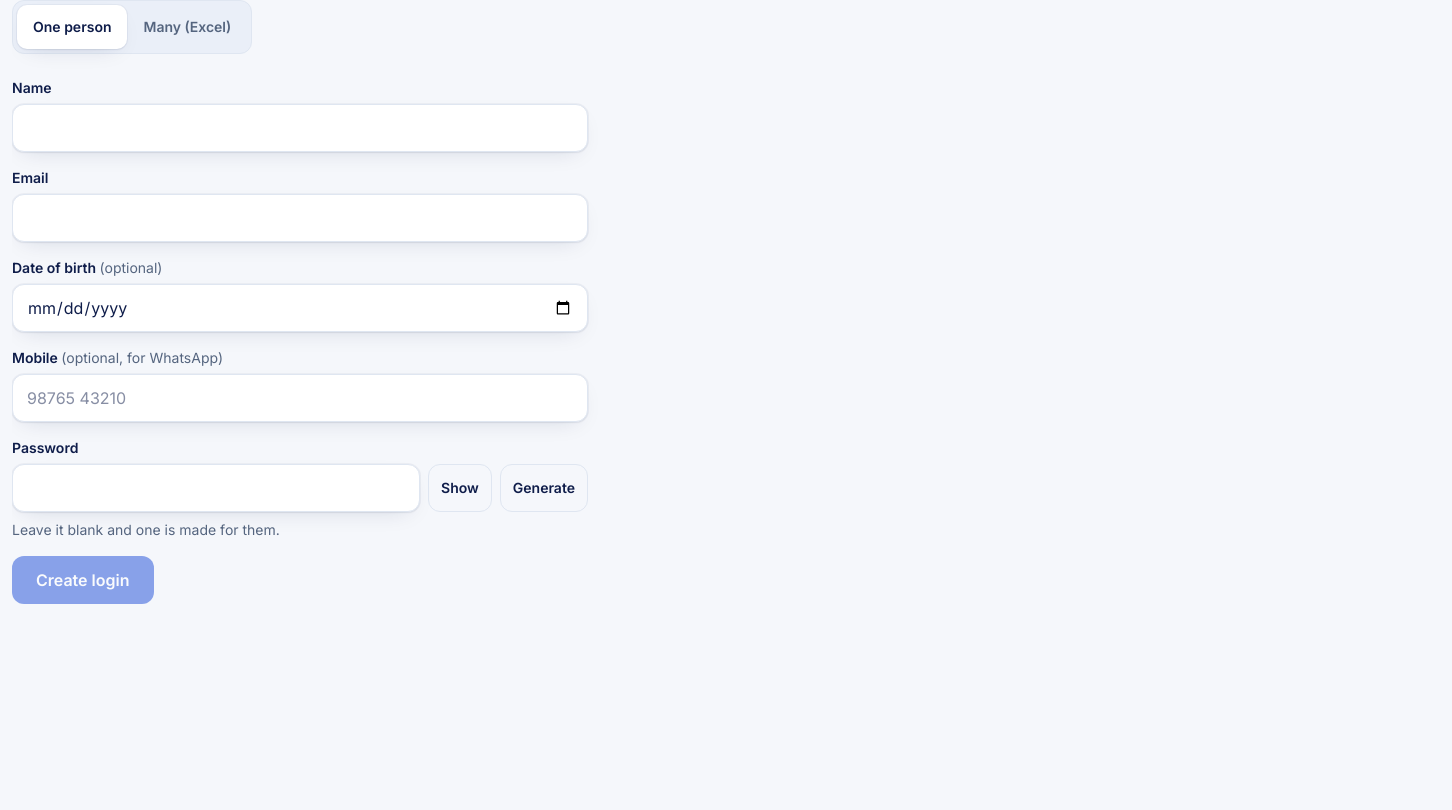
it: AddPeopleForm — one person › announces a refusal from the server
Type "Arjun Mehta" into the field labelled "Name". click: point(300, 128)
box: [12,104,588,152]
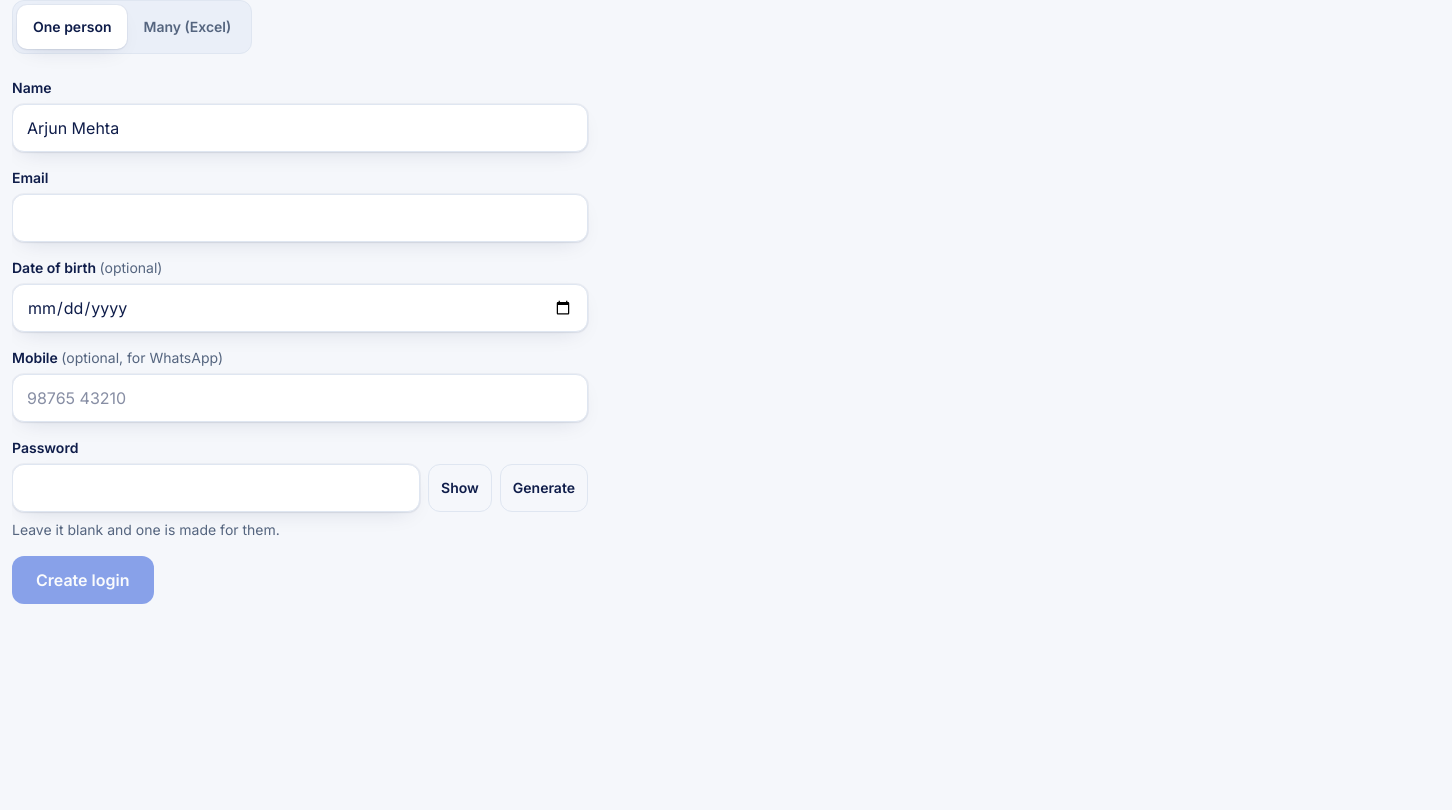
Type "arjun@example.com" into the field labelled "Email". click: point(300, 218)
box: [12,194,588,242]
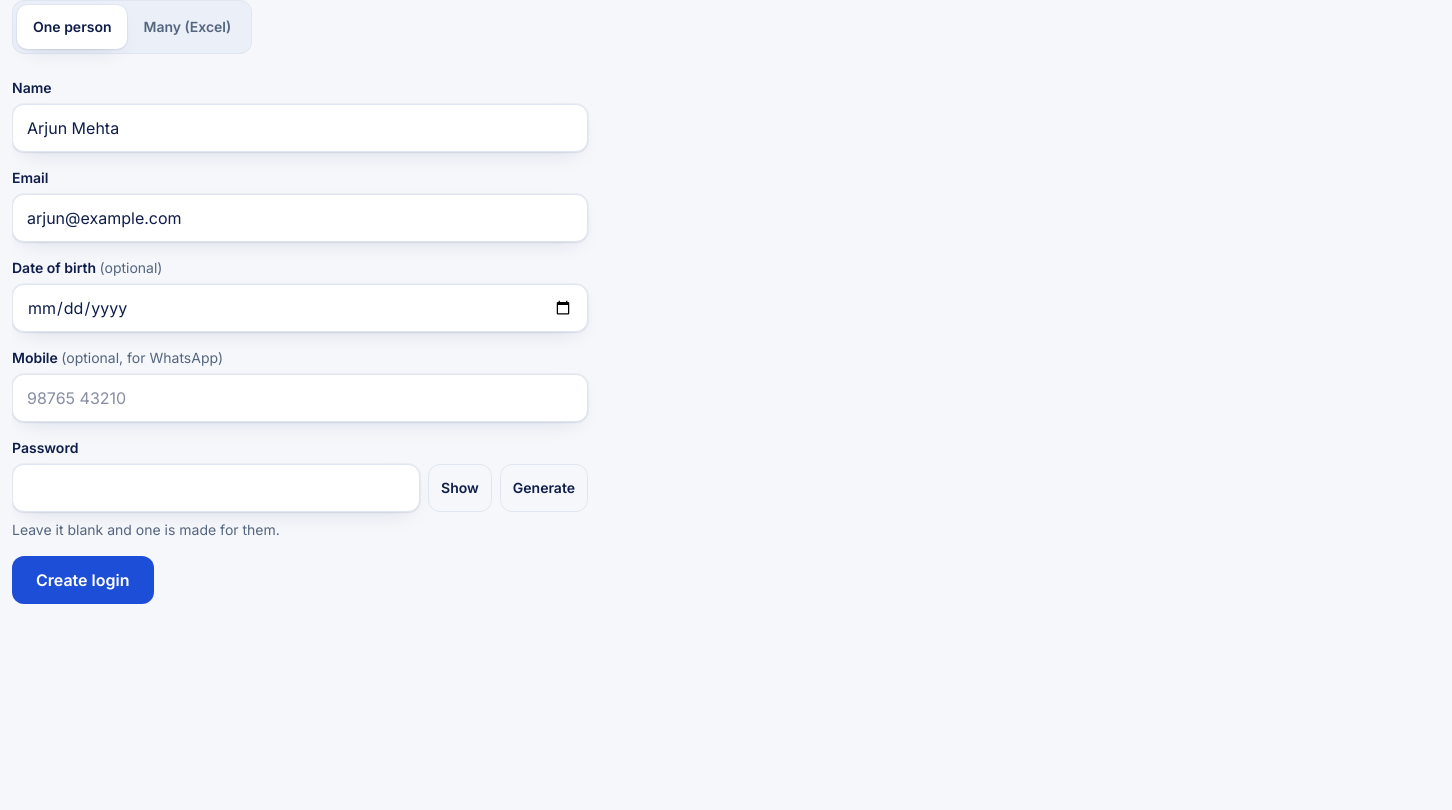
Type "2005-01-15" into the date field labelled "Date of birth (optional)". click: point(300, 308)
box: [12,284,588,332]
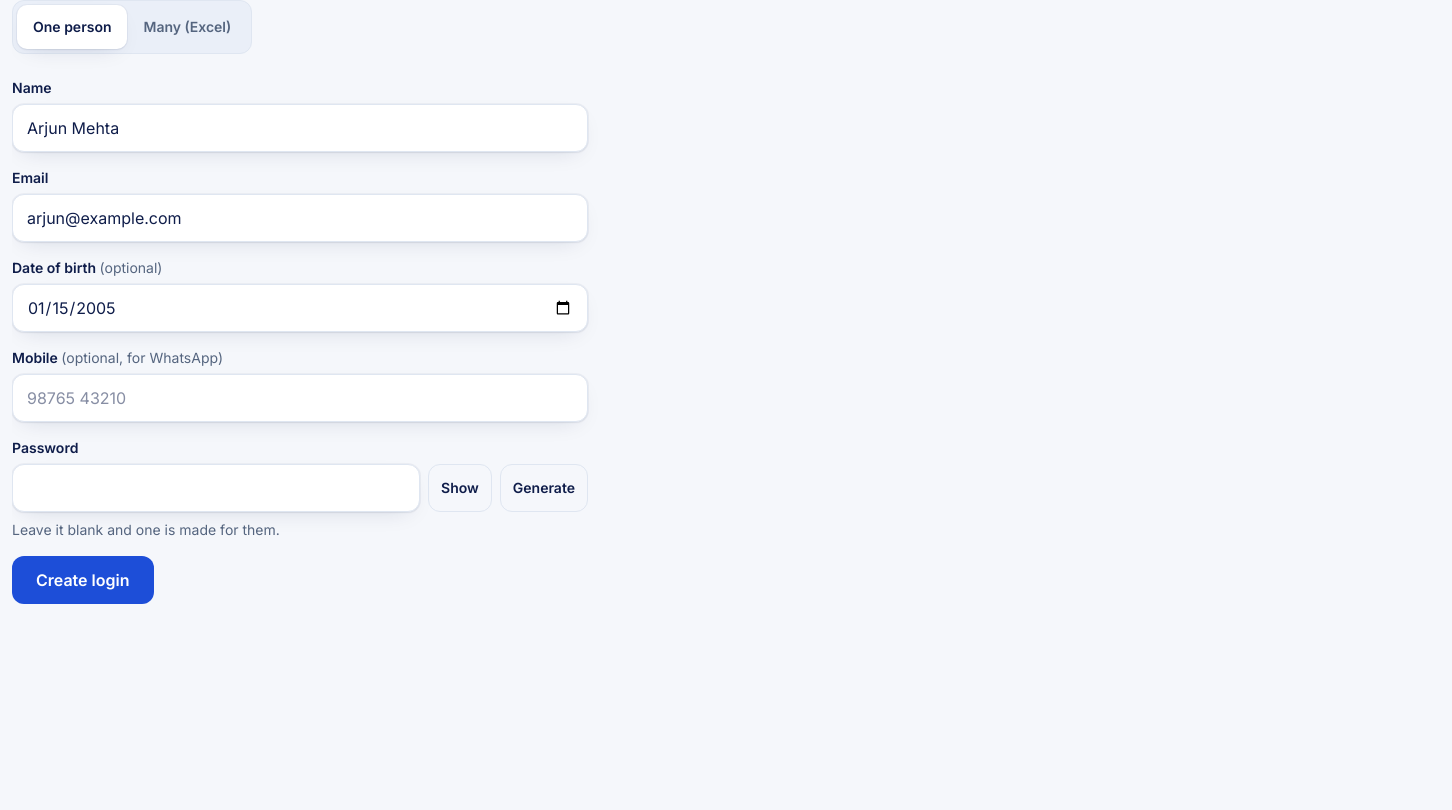
Click the button "Create login". click: point(83, 580)
box: [12,556,154,604]
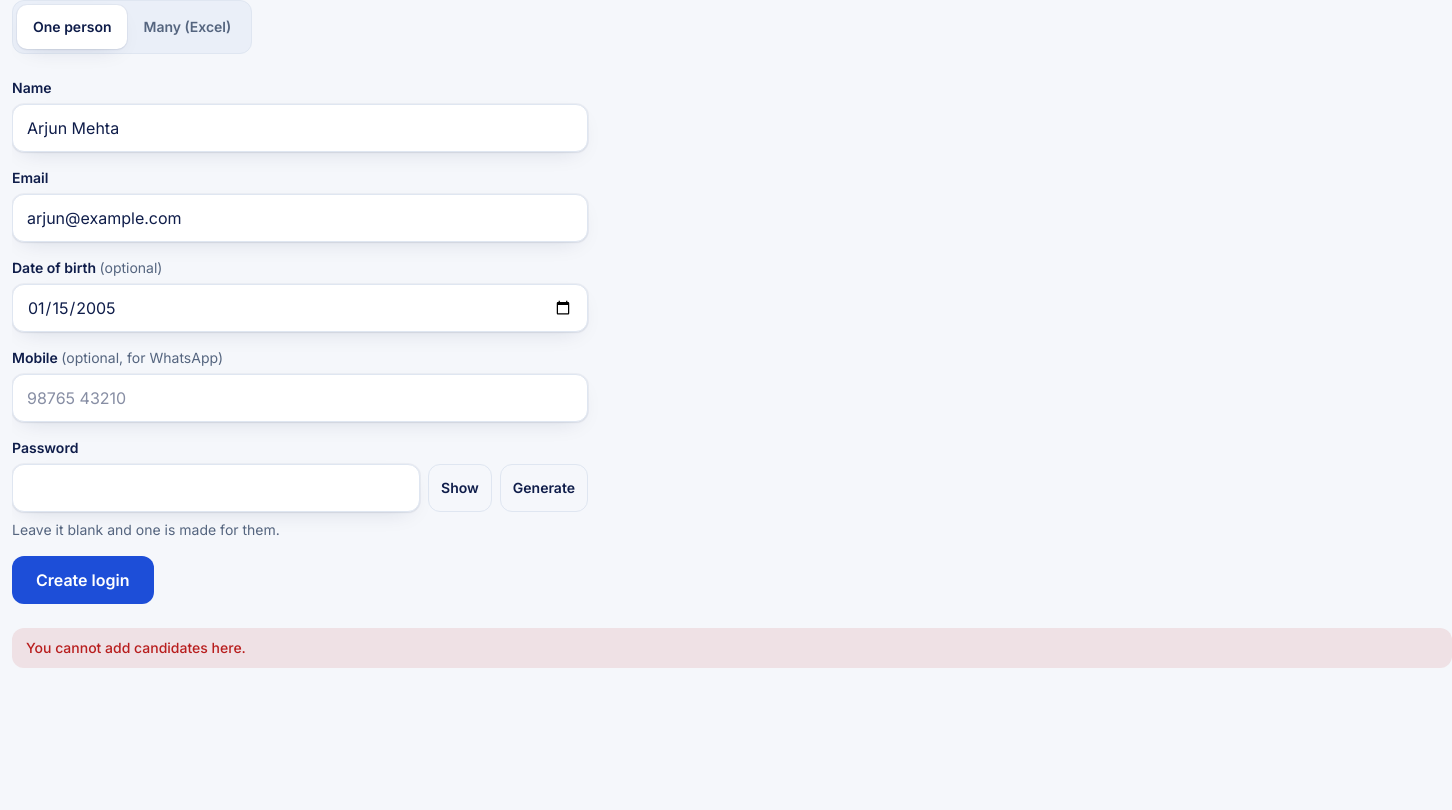
Now the message shows "cannot add", box [26,639,246,656]
